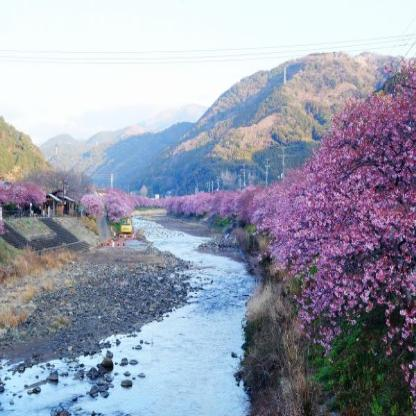KawazuSakura: (294, 50, 416, 353), (158, 180, 299, 222), (257, 164, 304, 271), (75, 178, 134, 233), (0, 172, 48, 214), (120, 216, 133, 236)
